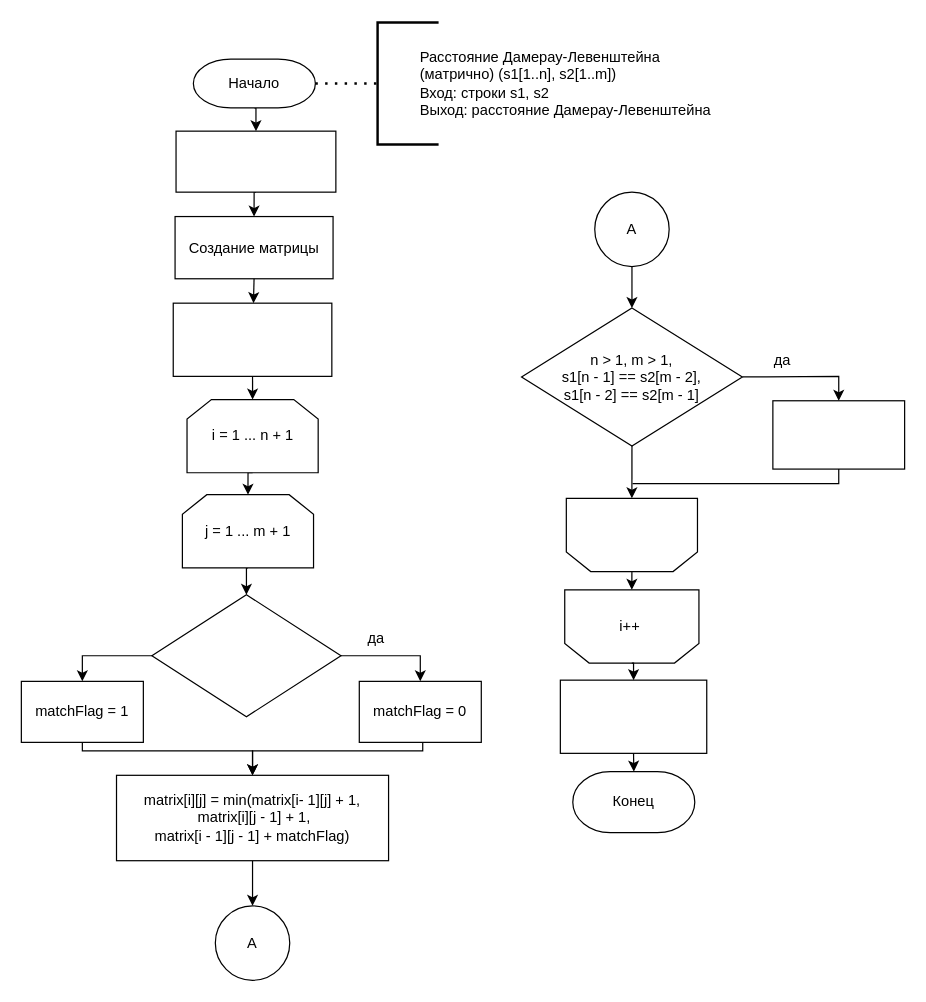
Some shapes in this 926 by 1002 pixel diagram are drawn without their labels. The centre of each missing label's shape, as x and y in pixels:
"j++" goes at point 631,534.
"matrix[i][j] = min(matrix[i][j], matrix[i-2][j-2] + 1)" goes at point 838,434.
"n = длина s1 m = длина s2" goes at point 255,161.
"s1[i - 1] == s2[j - 1]" goes at point 246,655.
"Вернуть результат" goes at point 633,716.
"Заполнение нулевой сторки и нулевого столбца матрицы" goes at point 252,339.
